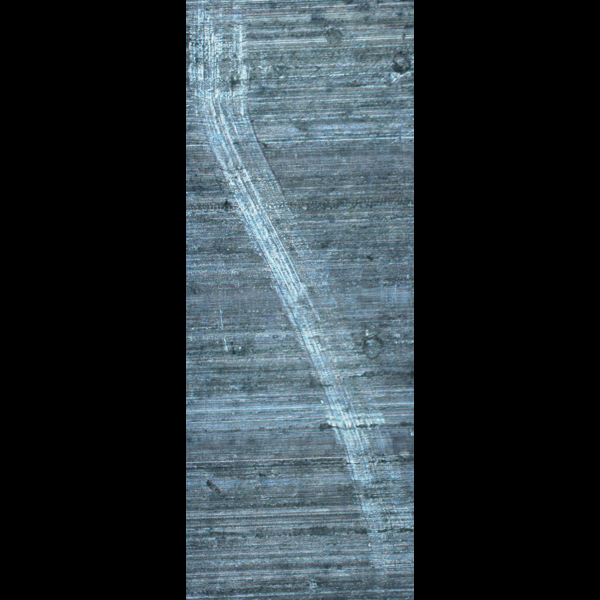d: (186, 0, 252, 176), (337, 416, 402, 570), (297, 282, 359, 437), (239, 157, 301, 284)
